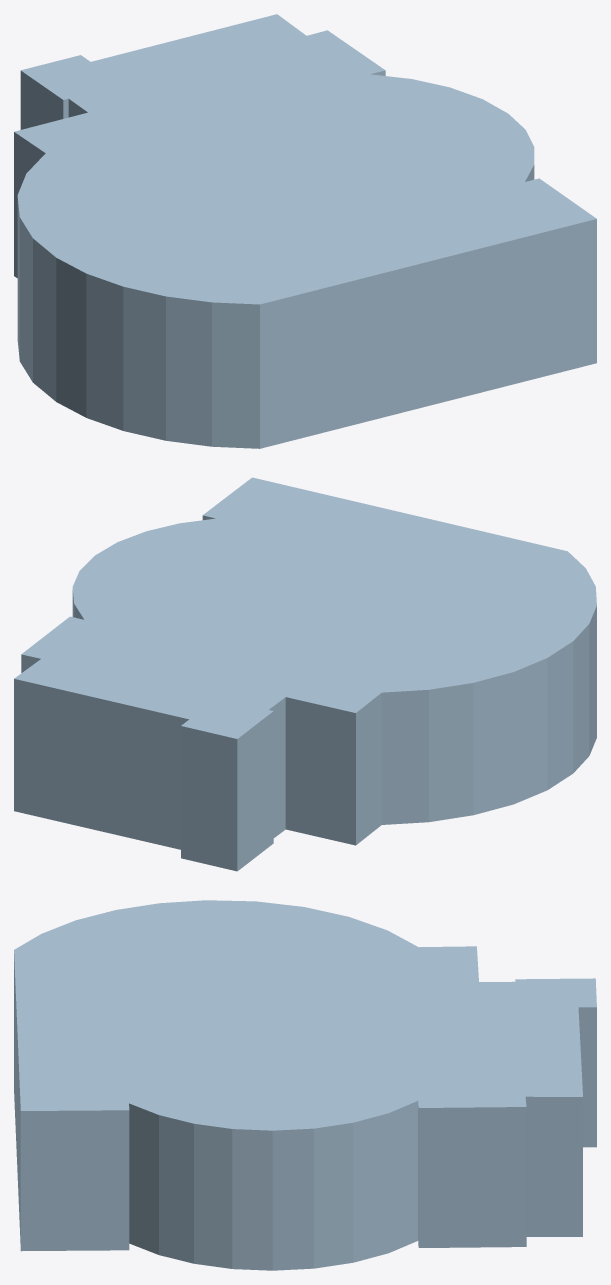
The model's file is osm_way_1390009975.glb.
The picture shows the model from 3 angles, top to bottom: view 1: azimuth 30°, elevation 25°; view 2: azimuth 150°, elevation 25°; view 3: azimuth 270°, elevation 25°; orthographic projection. The views are drawn at different scales.
Visible parts, largest first — view 1: osm_way_1390009975; view 2: osm_way_1390009975; view 3: osm_way_1390009975.
Part boxes in pixels (bbox=[...]): osm_way_1390009975: bbox=[14, 14, 596, 448]; osm_way_1390009975: bbox=[14, 477, 596, 871]; osm_way_1390009975: bbox=[14, 900, 596, 1270].
Bounding box in the file's own units: 44.46 × 12.6 × 47.53.
